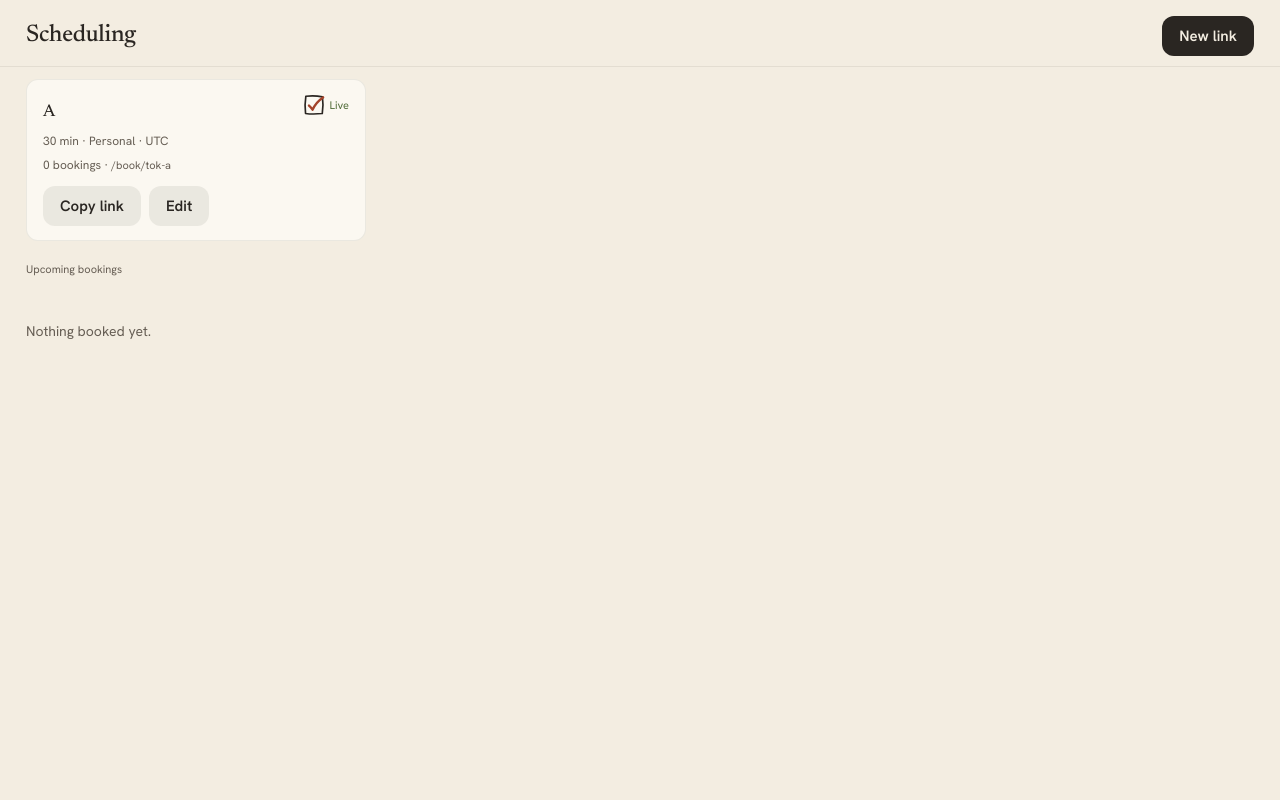
Test: 2026-08-25 — a failed booking-link toggle › keeps an edit that landed while the same link's toggle was in flight
Click the checkbox labelled "Live" at (314, 105), box [302, 94, 324, 116]
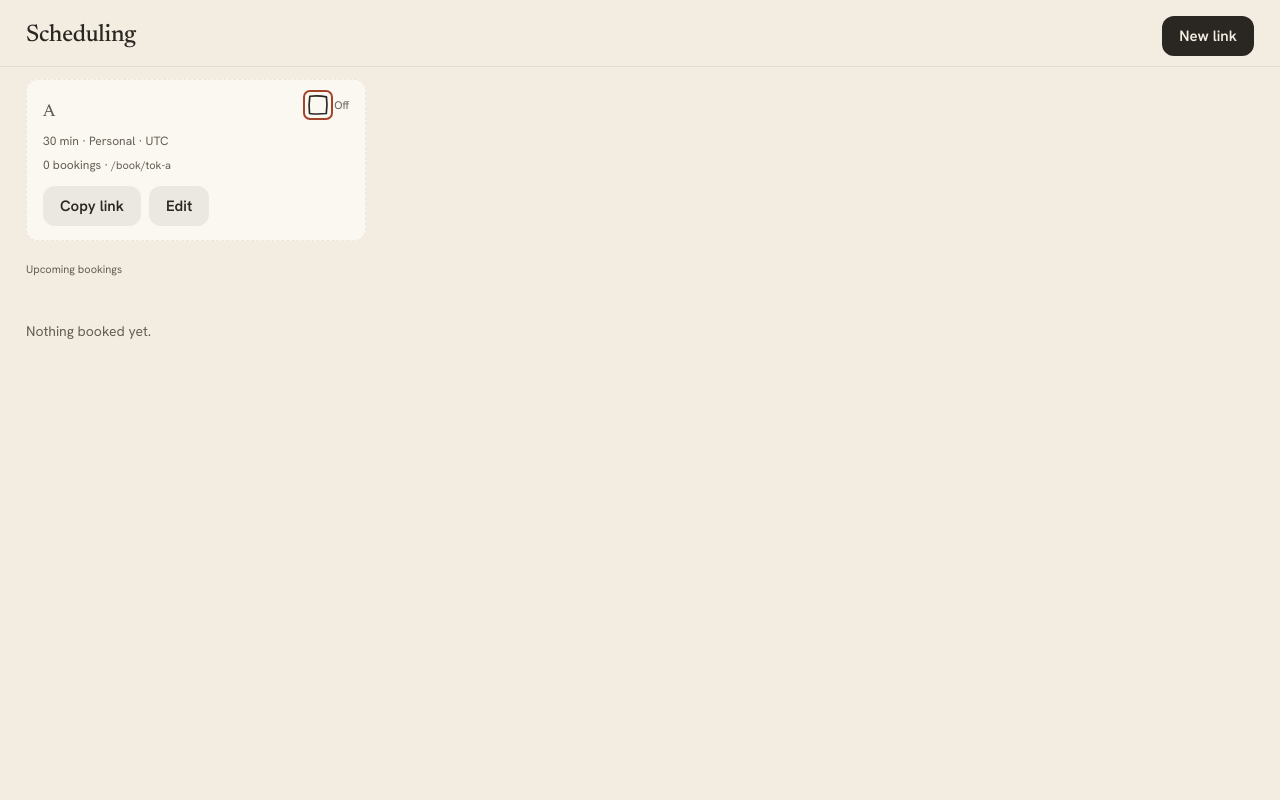
Click the button "Edit" at (179, 206), box [149, 186, 209, 226]
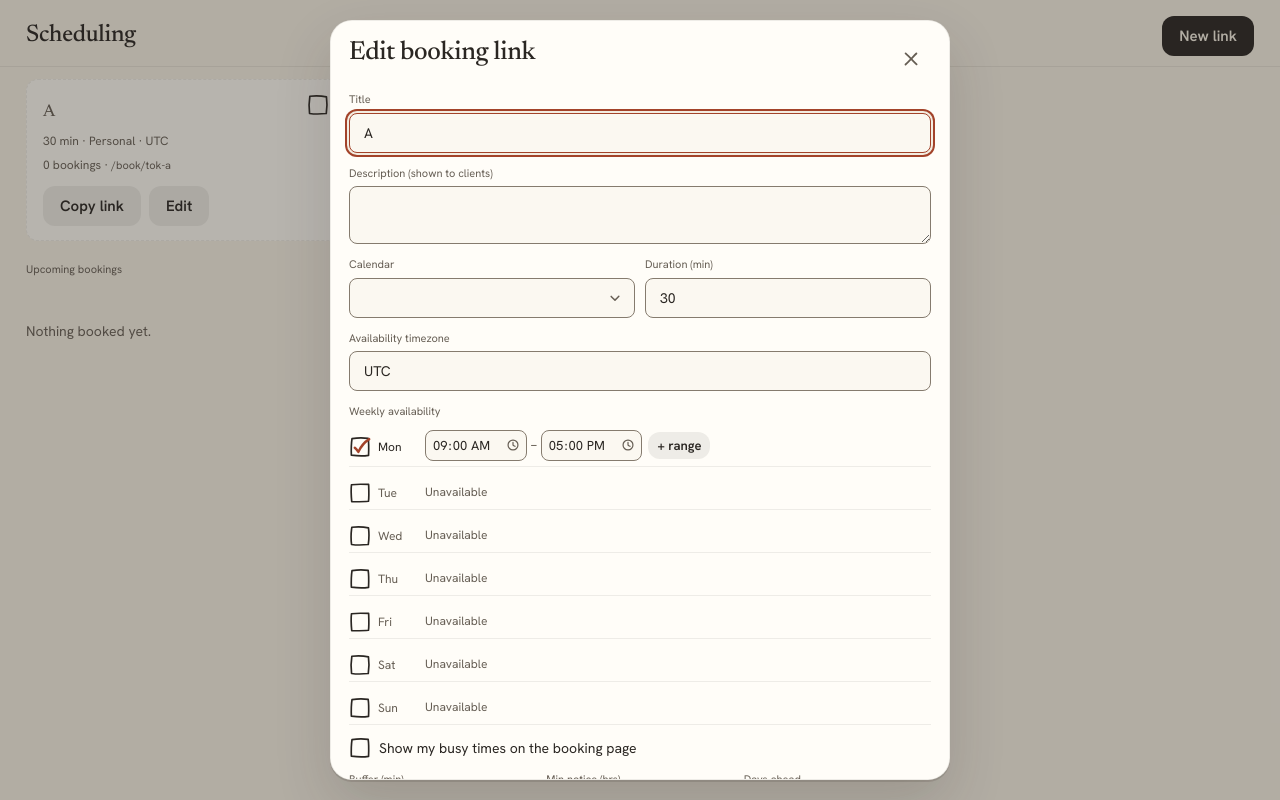
Replace the text in the field labelled "Title" with "A renamed" at (640, 132), box [349, 112, 931, 152]
(page scrolled)
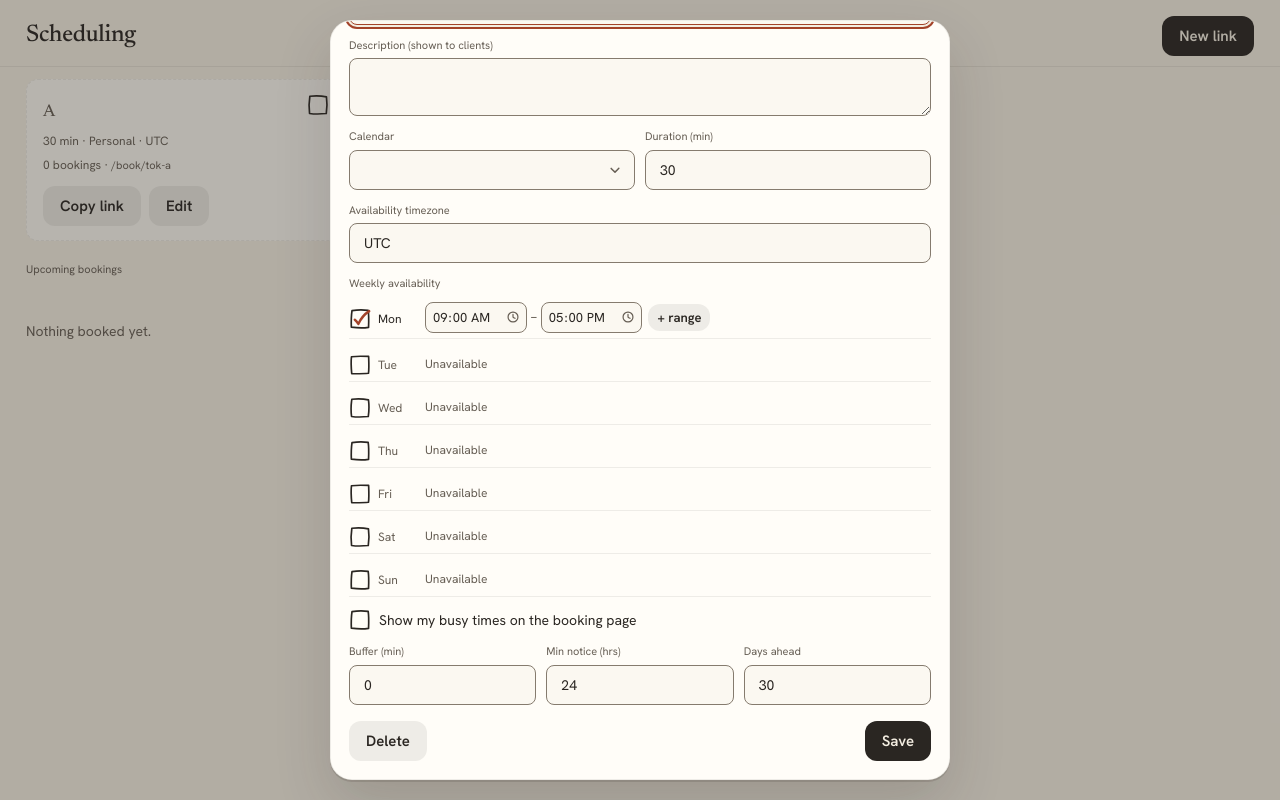
Click the button "Save" at (898, 741), box [865, 721, 931, 761]
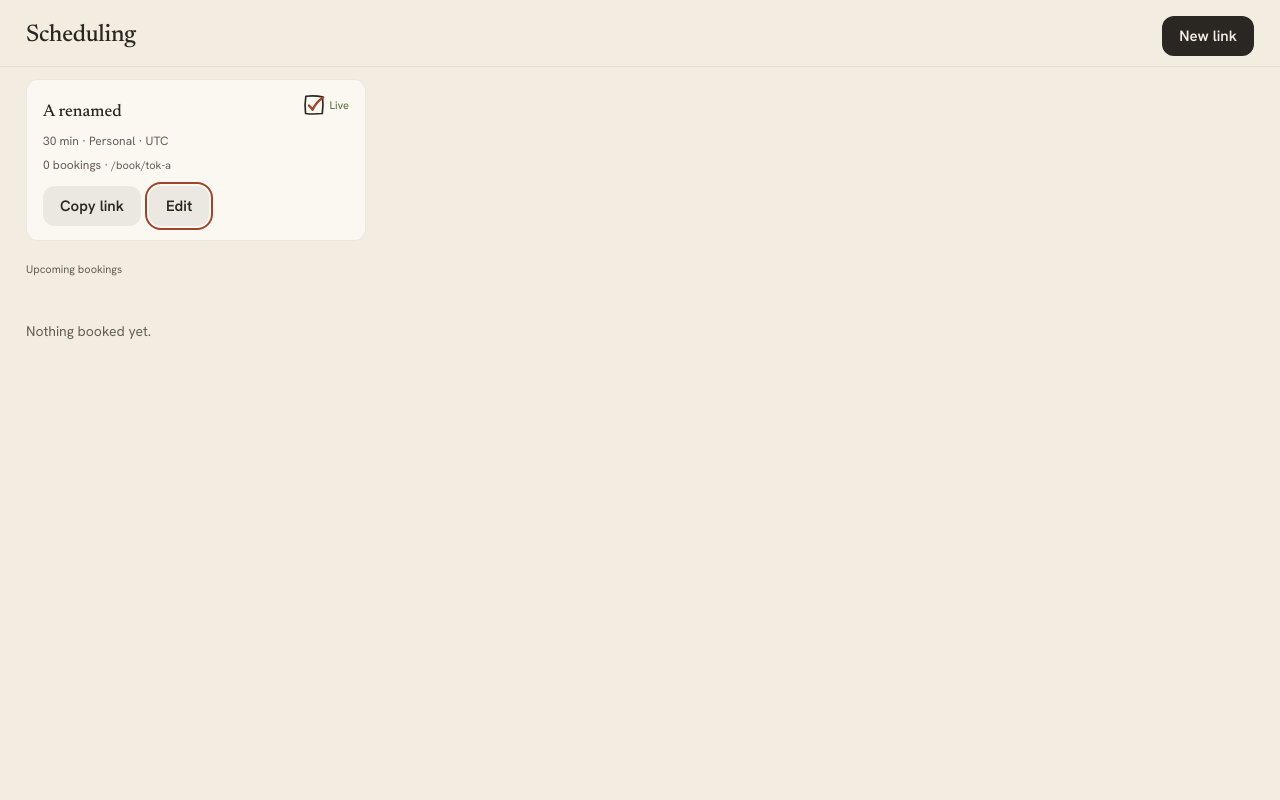
Check: the checkbox labelled "Live" is checked, box [302, 94, 324, 116]
Check: the text "A renamed" is shown, box [43, 100, 122, 126]
